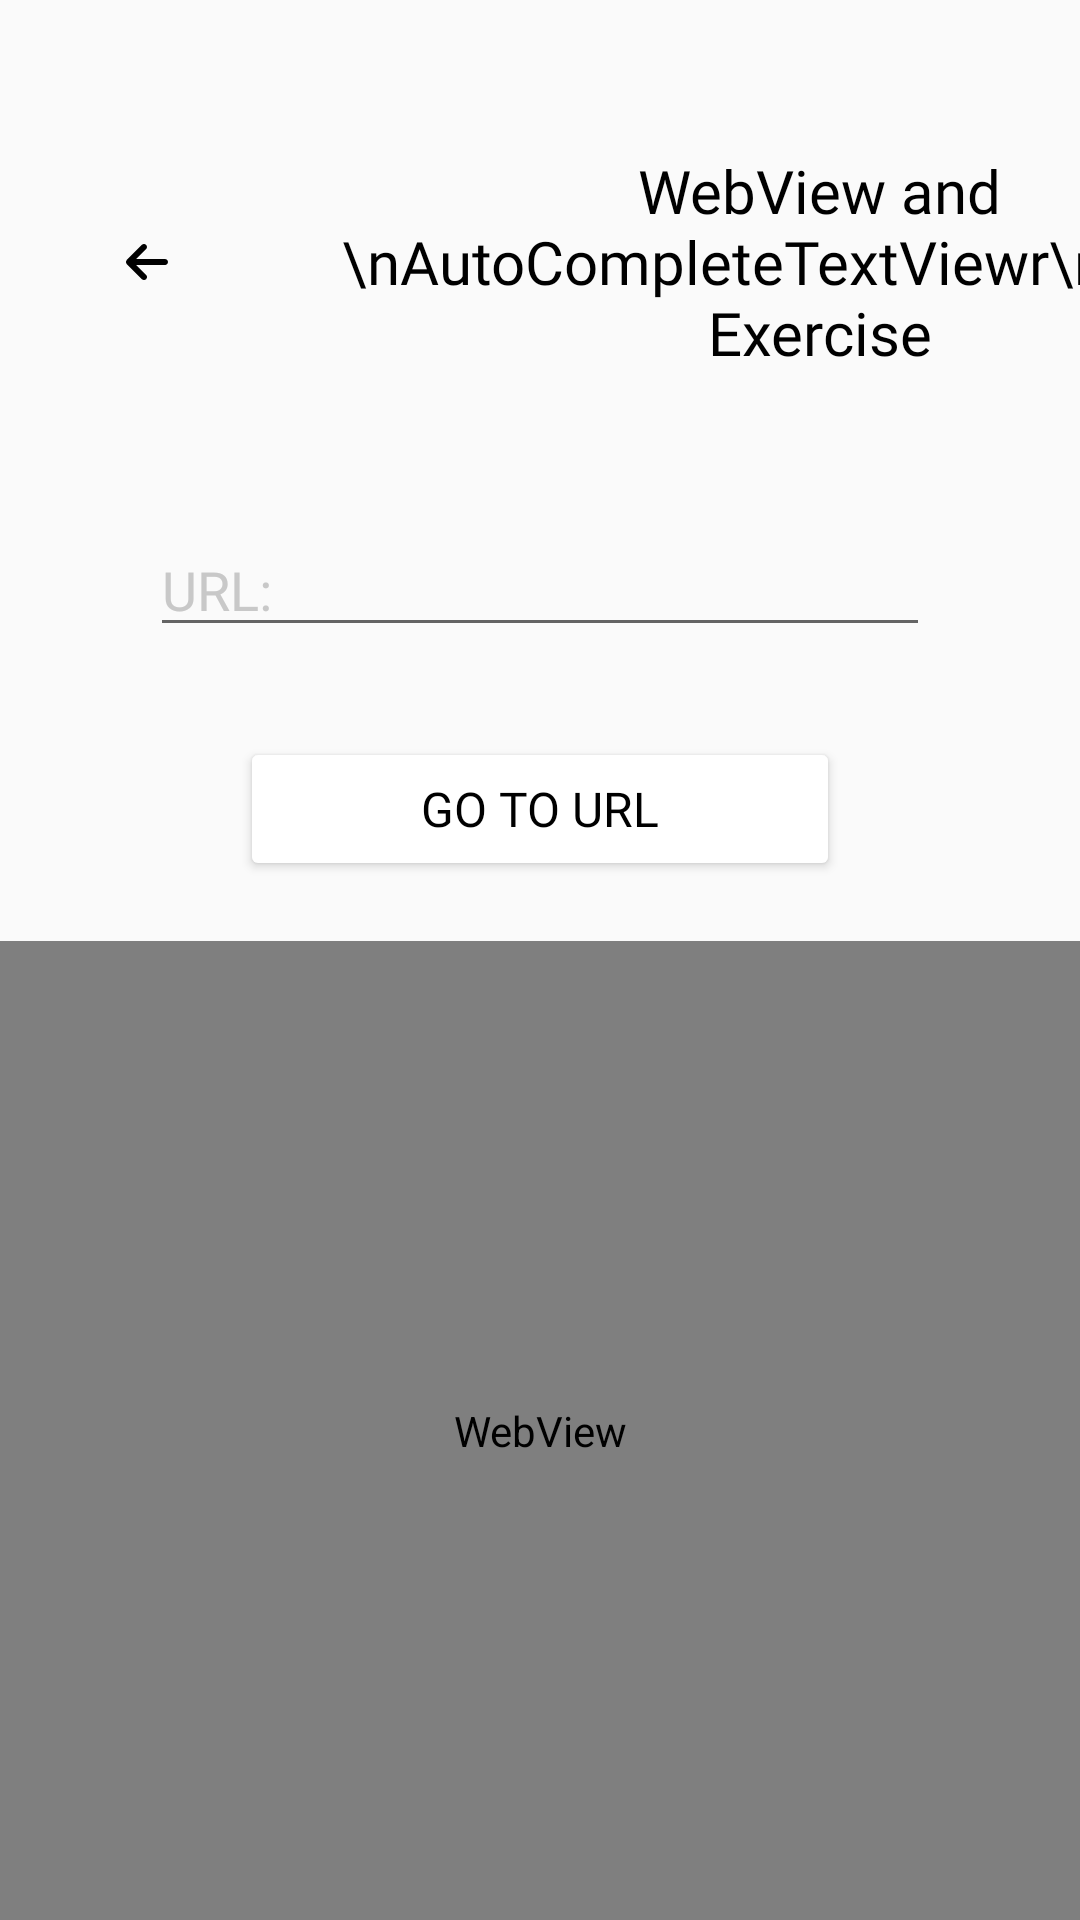

Screen size 1080w x 1920h. Icon name, then its box in pixels as box(x1, y1, x2, y2):
backarrow: box(126, 244, 168, 280)
